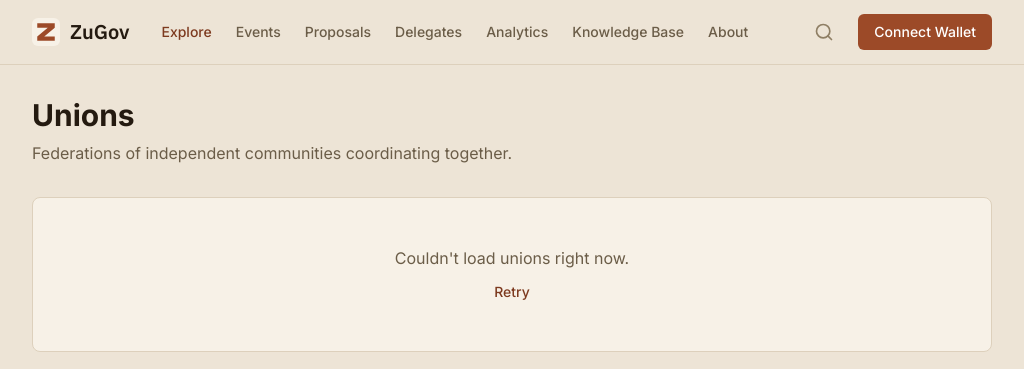
Test: UnionsPage error state › shows a distinct error state (not the empty state) on fetch failure, with a working Retry
Expected: the text "Couldn't load unions right now." is shown, [395,248,629,268]
Click the button "Retry".
click(512, 292)  # box [494,282,530,302]
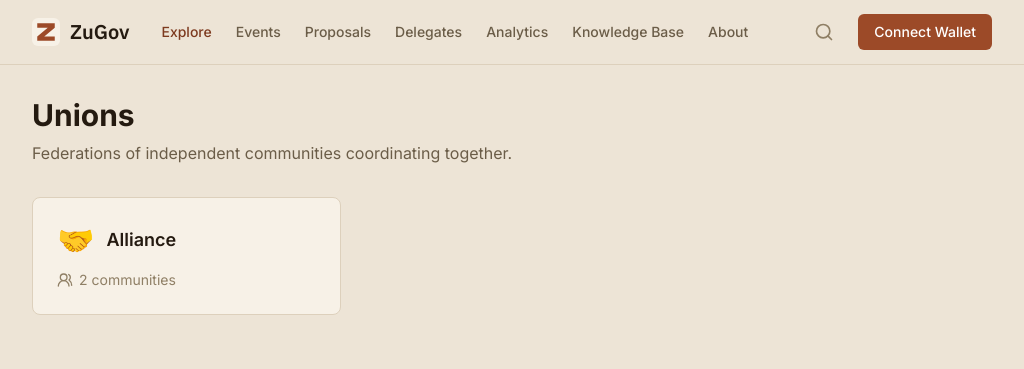
Now the heading "Alliance" is shown, box [106,226,176,254]
